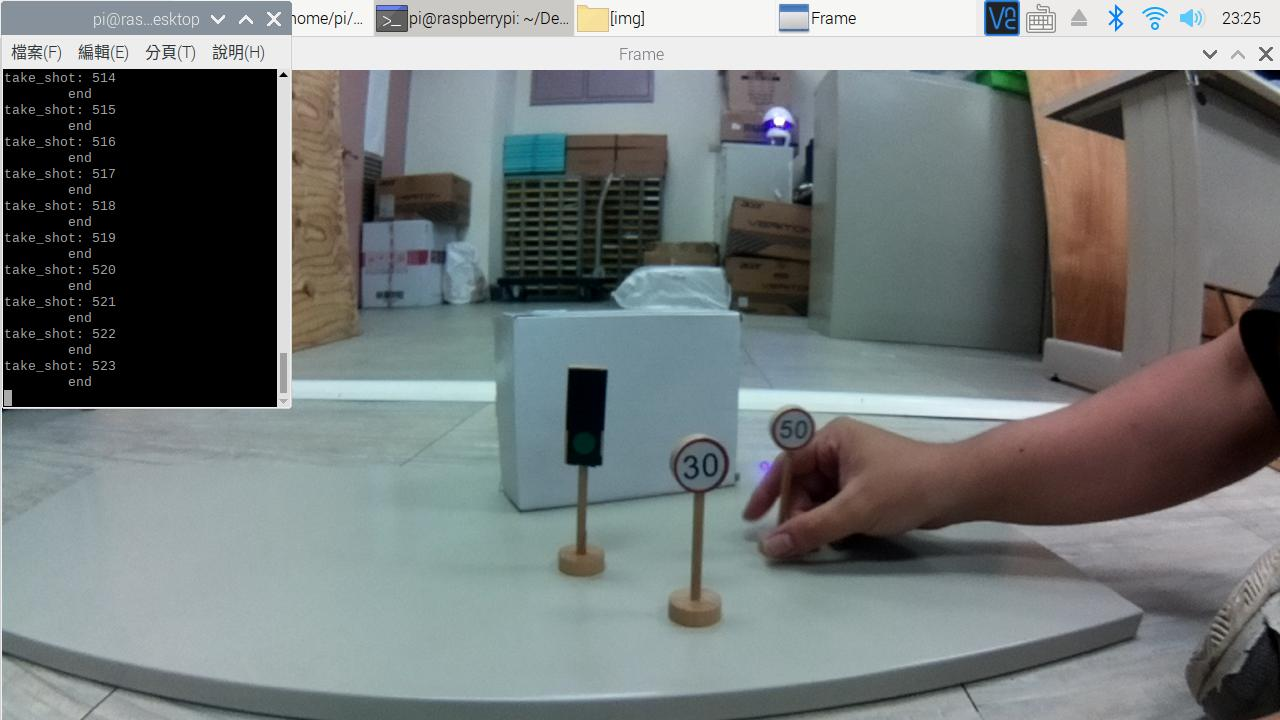Green: (563, 362, 622, 477)
Speed30: (664, 427, 737, 503)
Speed50: (766, 398, 820, 459)
